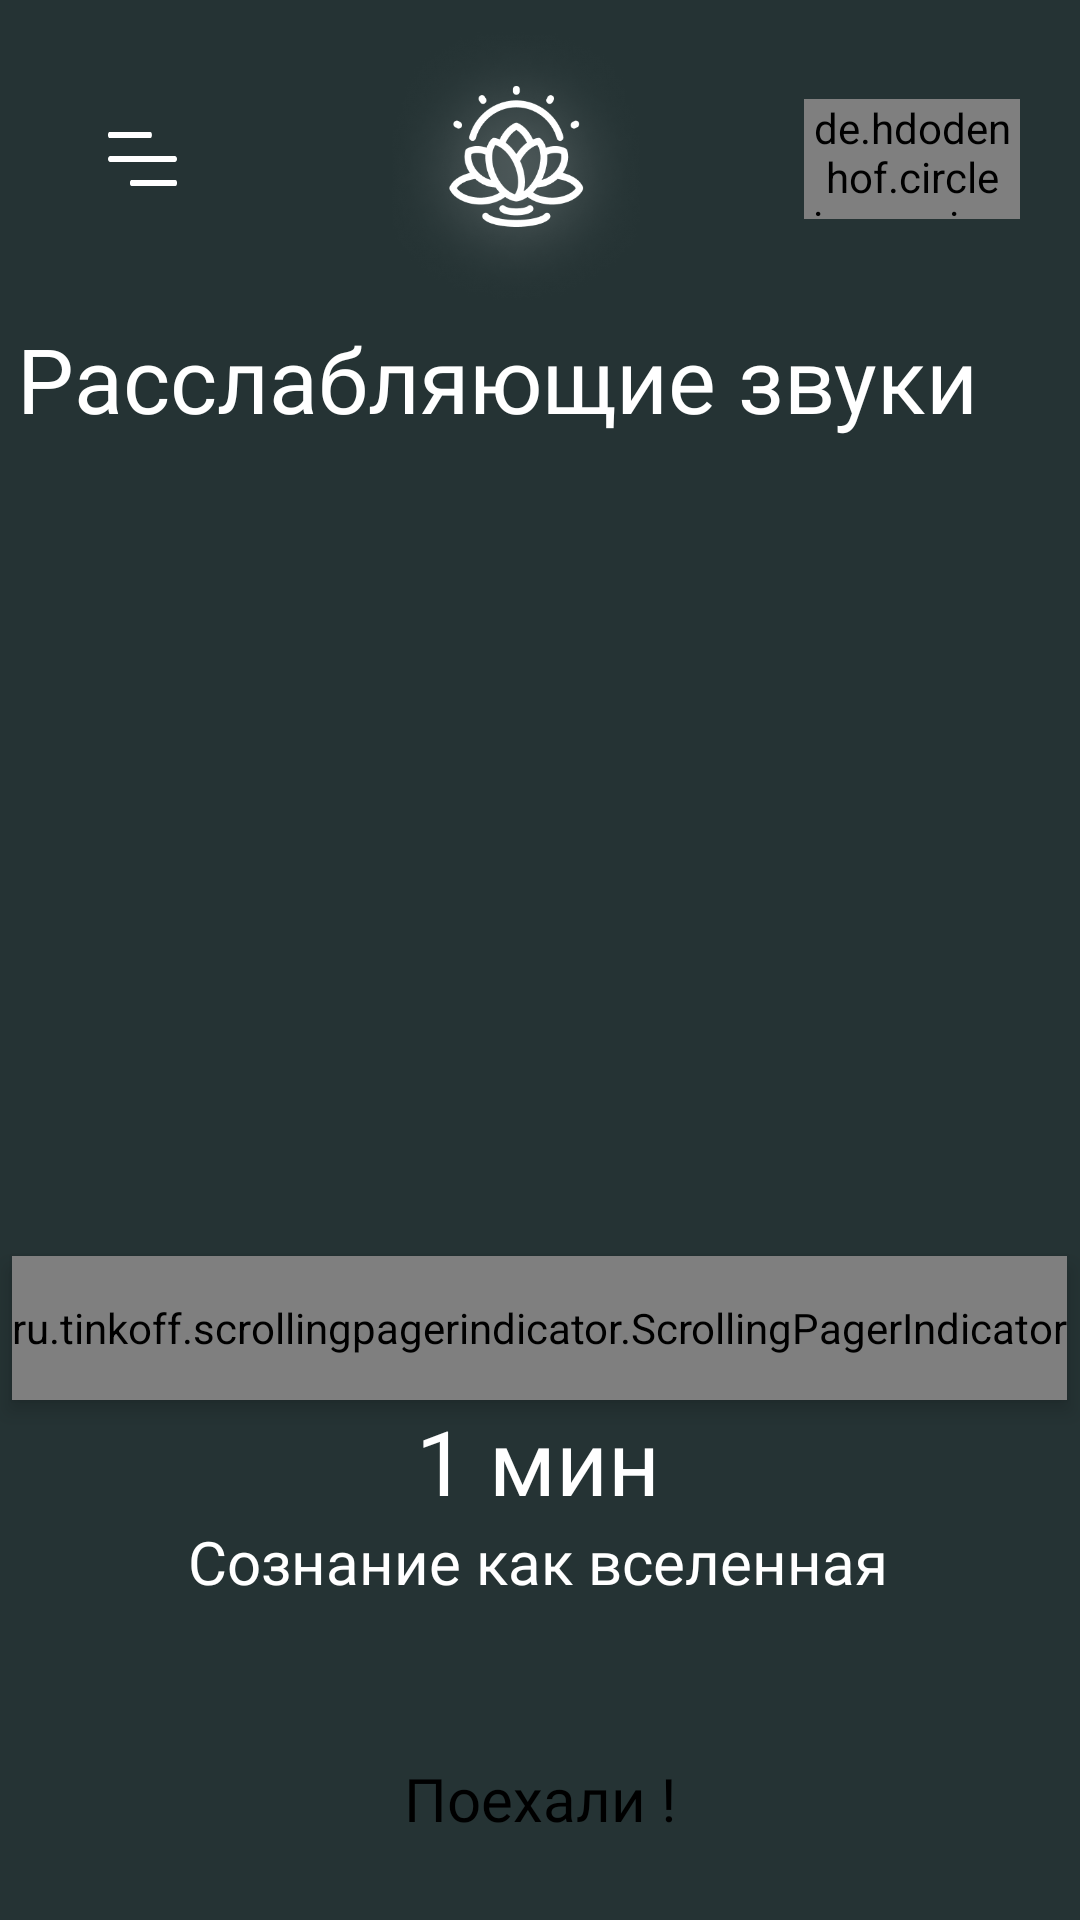

Point at icon controls on the screen. Image size 1080x1920, points as point (x, y).
hamburger: point (142, 159)
